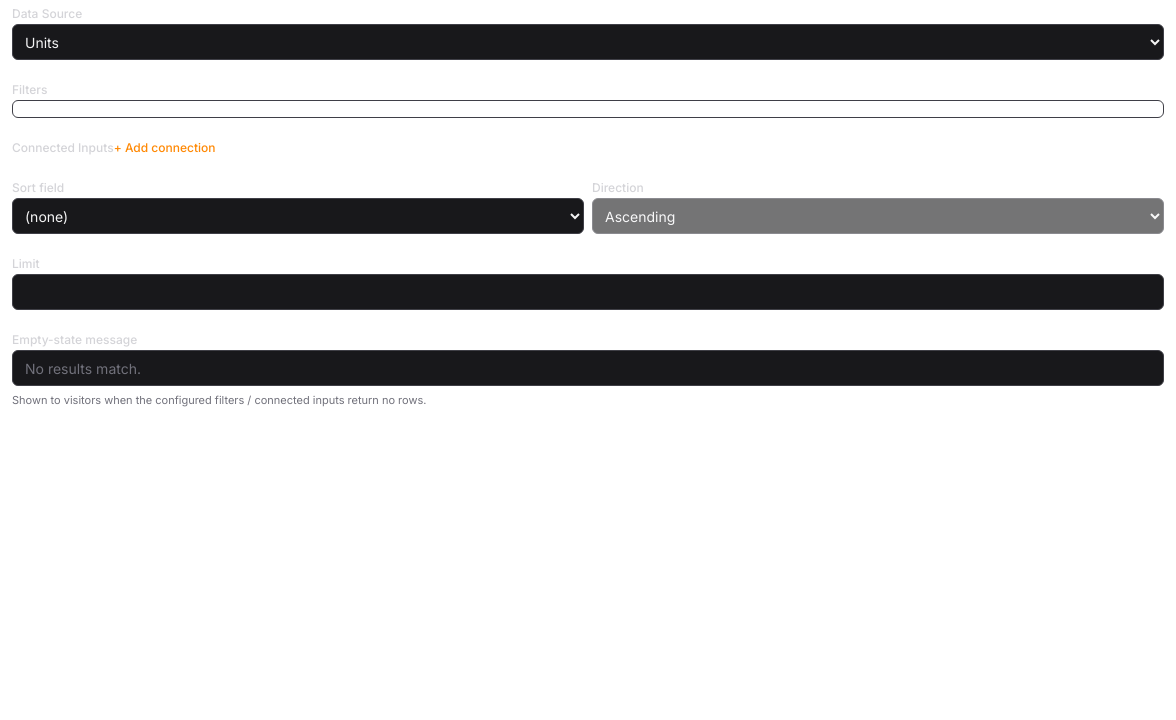
Test: <RepeaterEditPanel> › renders the connected-inputs editor and adds a new connection row on click
Expected: the element with test id "repeater-connected-inputs" is shown, [12,140,216,156]
Click the button with test id "repeater-connection-add" at {"x": 165, "y": 148}, box [114,140,216,156]
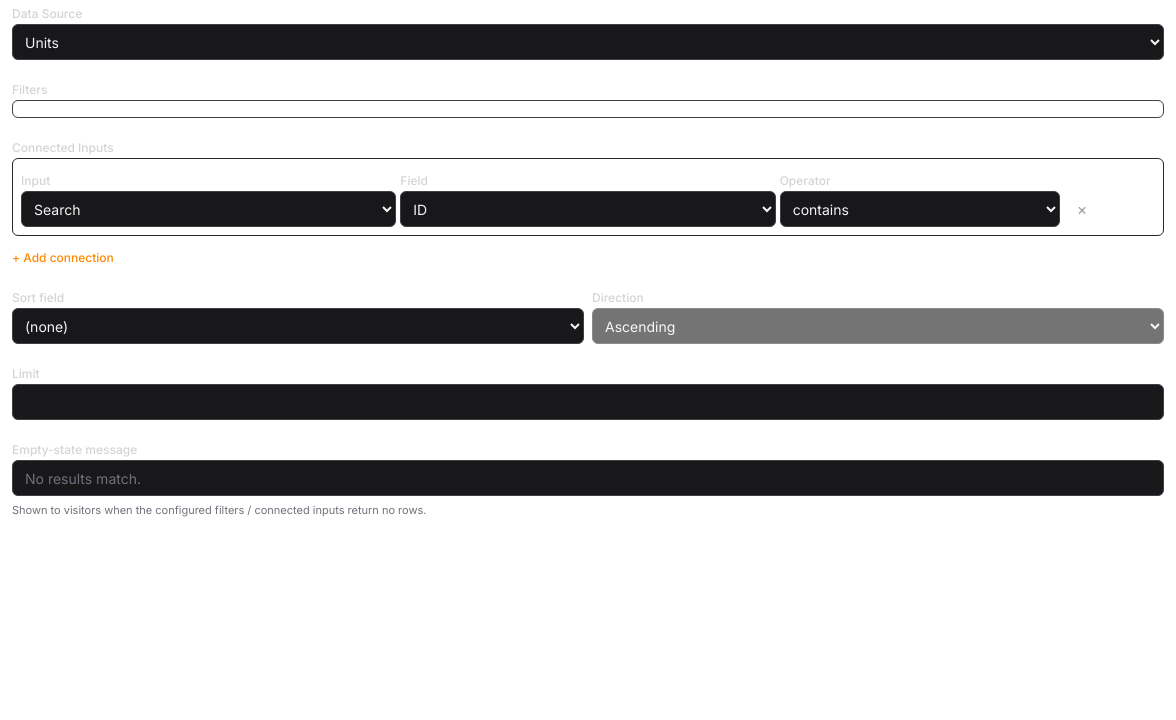
Expected: the element with test id "repeater-connection-0" is shown, [12,158,1164,236]
